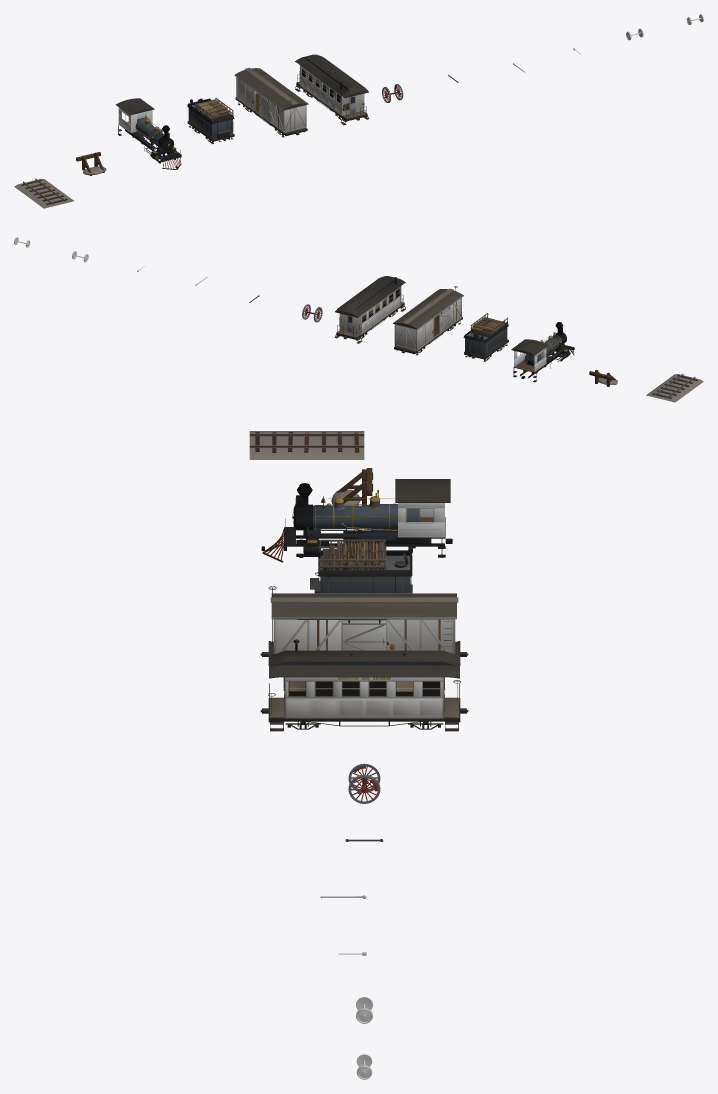
File: rail.fbx
The picture shows the model from 3 angles, top to bottom: view 1: azimuth 30°, elevation 25°; view 2: azimuth 150°, elevation 25°; view 3: azimuth 270°, elevation 25°; orthographic projection. The views are drawn at different scales.
Visible parts, largest first — view 1: rail_boxcar, rail_coach, rail_loco, rail_tender, rail_track, rail_buffer; view 2: rail_boxcar, rail_coach, rail_loco, rail_tender, rail_track; view 3: rail_coach, rail_boxcar, rail_loco, rail_tender, rail_track.
Part boxes in pixels (x1,y1,x2,y2): rail_boxcar: (234, 67, 308, 137); rail_coach: (295, 54, 368, 125); rail_loco: (115, 98, 181, 169); rail_tender: (187, 98, 234, 144); rail_track: (14, 178, 74, 208); rail_buffer: (76, 152, 106, 175); rail_boxcar: (393, 286, 463, 355); rail_coach: (334, 276, 405, 343); rail_loco: (511, 322, 574, 382); rail_tender: (463, 313, 508, 361); rail_track: (646, 373, 703, 402); rail_coach: (260, 639, 468, 731); rail_boxcar: (260, 586, 468, 665); rail_loco: (261, 479, 452, 562); rail_tender: (310, 539, 412, 593); rail_track: (249, 431, 364, 459).
Size of the model in its own units: 79.58 by 5.43 by 11.43.
